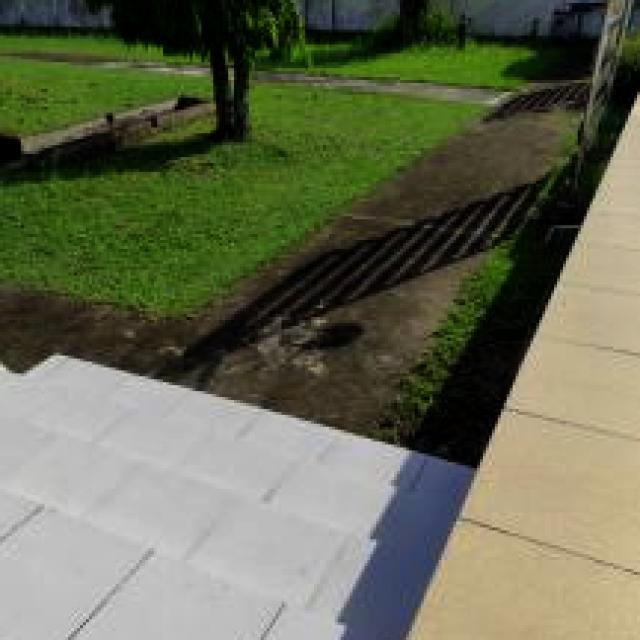downstair: (1, 350, 445, 640)
